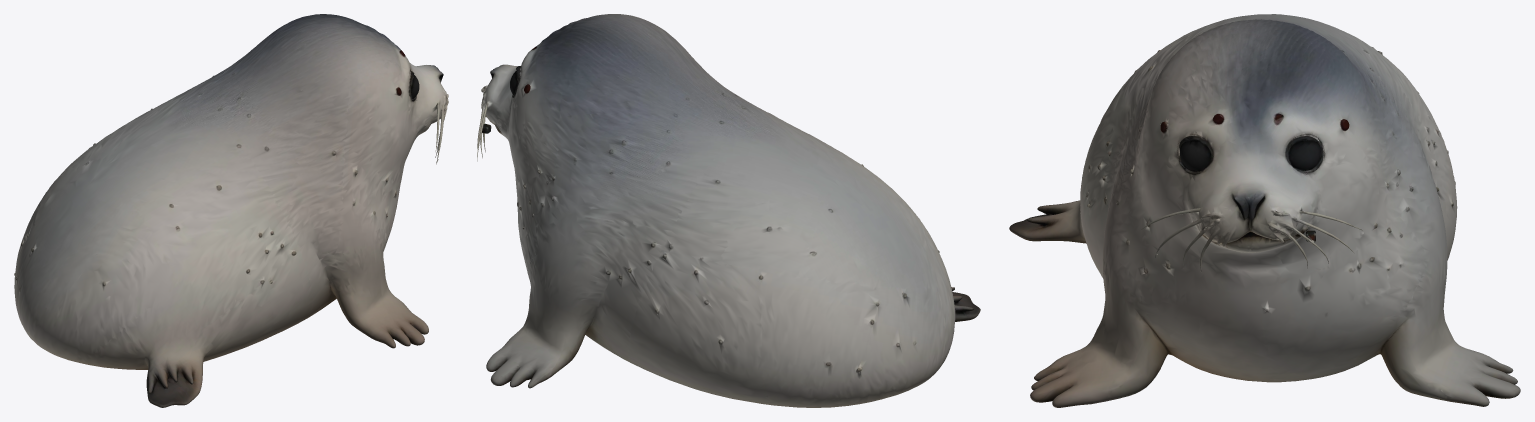
File: seal.glb
The picture shows the model from 3 angles, left to right: view 1: azimuth 30°, elevation 25°; view 2: azimuth 150°, elevation 25°; view 3: azimuth 270°, elevation 25°; orthographic projection. The views are drawn at different scales.
Parts seen in each view (by area): view 1: tripo_node_818a3ef9-0753-41ec-a170-03f1fad1d035; view 2: tripo_node_818a3ef9-0753-41ec-a170-03f1fad1d035; view 3: tripo_node_818a3ef9-0753-41ec-a170-03f1fad1d035.
Boxes of the visible parts, x1,y1,x2,y2 form: tripo_node_818a3ef9-0753-41ec-a170-03f1fad1d035: [14, 14, 448, 407]; tripo_node_818a3ef9-0753-41ec-a170-03f1fad1d035: [477, 14, 980, 407]; tripo_node_818a3ef9-0753-41ec-a170-03f1fad1d035: [1009, 14, 1520, 407].
Size of the model in its own units: 0.9998 by 0.6299 by 0.7937.
Materials: 1 (1 with a texture image).
